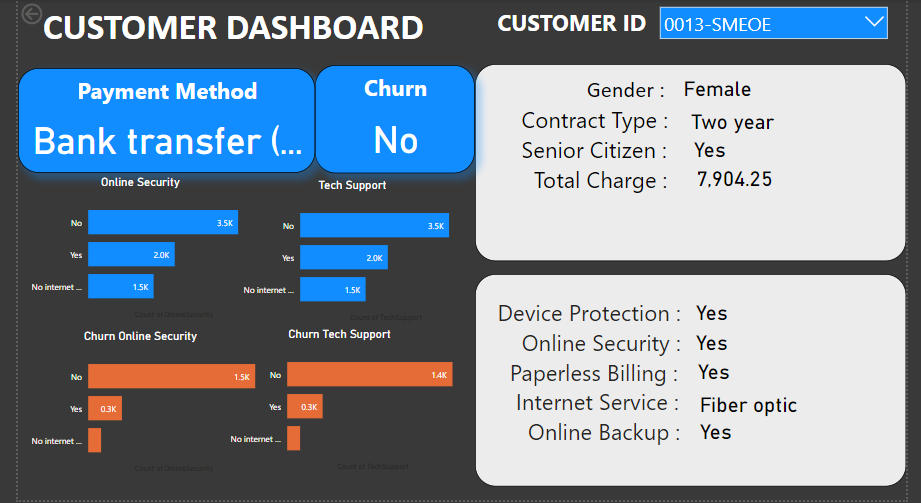

This screenshot's page, from the dashboard's own definition file:
{"tool":"powerbi","page":{"name":"Customer Details","canvas":[1280,720],"ordinal":1},"visuals":[{"type":"textbox","box":[658.7,394.4,621.3,306.2],"z":0},{"type":"textbox","box":[658.7,92.5,621.3,284.2],"z":1000},{"type":"slicer","fields":{"Values":["01 Churn-Dataset.customerID"]},"box":[913.8,0,347.7,75.6],"z":2000},{"type":"textbox","box":[18.5,0,640,149.5],"z":3000},{"type":"textbox","box":[685.4,5,255.3,89],"z":4000},{"type":"textbox","box":[720,105,280,290],"z":5000},{"type":"card","fields":{"Values":["Sum(01 Churn-Dataset.TotalCharges)"]},"box":[903.7,225.1,255.3,62.2],"z":6000},{"type":"card","fields":{"Values":["Min(01 Churn-Dataset.senior_citizen(y/n))"]},"box":[868.5,183.1,255.3,62.2],"z":7000},{"type":"card","fields":{"Values":["Min(01 Churn-Dataset.Contract)"]},"box":[902,142.8,255.3,62.2],"z":8000},{"type":"card","fields":{"Values":["Min(01 Churn-Dataset.gender)"]},"box":[880.2,95.7,255.3,62.2],"z":9000},{"type":"textbox","box":[685,422.5,315,252.5],"z":10000},{"type":"actionButton","box":[0,0,100,40],"z":11000},{"type":"card","fields":{"Values":["Min(01 Churn-Dataset.DeviceProtection)"]},"box":[871.8,418.3,255.3,62.2],"z":12000},{"type":"card","fields":{"Values":["Min(01 Churn-Dataset.OnlineSecurity)"]},"box":[871.8,460.3,255.3,62.2],"z":13000},{"type":"card","fields":{"Values":["Min(01 Churn-Dataset.PaperlessBilling)"]},"box":[873.5,502.3,255.3,62.2],"z":14000},{"type":"card","fields":{"Values":["Min(01 Churn-Dataset.InternetService)"]},"box":[923.9,549.3,255.3,63.8],"z":15000},{"type":"card","fields":{"Values":["Min(01 Churn-Dataset.OnlineBackup)"]},"box":[876.9,589.6,255.3,62.2],"z":17000},{"type":"card","title":"Churn","fields":{"Values":["Min(01 Churn-Dataset.Churn)"]},"box":[428.3,94.1,230.1,156.2],"z":18000},{"type":"card","title":"Payment Method","fields":{"Values":["Min(01 Churn-Dataset.PaymentMethod)"]},"box":[0,97.4,428.3,151.2],"z":19000},{"type":"barChart","title":"Online Security","fields":{"Category":["01 Churn-Dataset (2).OnlineSecurity"],"Y":["CountNonNull(01 Churn-Dataset (2).OnlineSecurity)"]},"box":[0,252,352.8,211.7],"z":19001},{"type":"barChart","title":"Churn Online Security","fields":{"Category":["01 Churn-Dataset (2).OnlineSecurity"],"Y":["CountNonNull(01 Churn-Dataset (2).OnlineSecurity)"]},"box":[0,473.7,352.8,211.7],"z":19002},{"type":"barChart","title":"Tech Support","fields":{"Category":["01 Churn-Dataset (2).TechSupport"],"Y":["CountNonNull(01 Churn-Dataset (2).TechSupport)"]},"box":[305.7,257,352.8,211.7],"z":19003},{"type":"barChart","title":"Churn Tech Support","fields":{"Category":["01 Churn-Dataset (2).TechSupport"],"Y":["CountNonNull(01 Churn-Dataset (2).TechSupport)"]},"box":[287.2,470.3,352.8,211.7],"z":19004}]}

Visuals, with their boxes in screenshot pixels (x1, y1, x2, y2), scaled from the page's 1280x720 canvas onto the 921x503 screenshot:
textbox: Rect(474, 276, 920, 489)
textbox: Rect(474, 65, 920, 263)
slicer - 01 Churn-Dataset.customerID: Rect(658, 0, 908, 53)
textbox: Rect(13, 0, 474, 104)
textbox: Rect(493, 3, 677, 66)
textbox: Rect(518, 73, 720, 276)
card - Sum(01 Churn-Dataset.TotalCharges): Rect(650, 157, 834, 201)
card - Min(01 Churn-Dataset.senior_citizen(y/n)): Rect(625, 128, 809, 171)
card - Min(01 Churn-Dataset.Contract): Rect(649, 100, 833, 143)
card - Min(01 Churn-Dataset.gender): Rect(633, 67, 817, 110)
textbox: Rect(493, 295, 720, 472)
actionButton: Rect(0, 0, 72, 28)
card - Min(01 Churn-Dataset.DeviceProtection): Rect(627, 292, 811, 336)
card - Min(01 Churn-Dataset.OnlineSecurity): Rect(627, 322, 811, 365)
card - Min(01 Churn-Dataset.PaperlessBilling): Rect(629, 351, 812, 394)
card - Min(01 Churn-Dataset.InternetService): Rect(665, 384, 848, 428)
card - Min(01 Churn-Dataset.OnlineBackup): Rect(631, 412, 815, 455)
"Churn" card: Rect(308, 66, 474, 175)
"Payment Method" card: Rect(0, 68, 308, 174)
"Online Security" barChart: Rect(0, 176, 254, 324)
"Churn Online Security" barChart: Rect(0, 331, 254, 479)
"Tech Support" barChart: Rect(220, 180, 474, 327)
"Churn Tech Support" barChart: Rect(207, 329, 460, 476)
